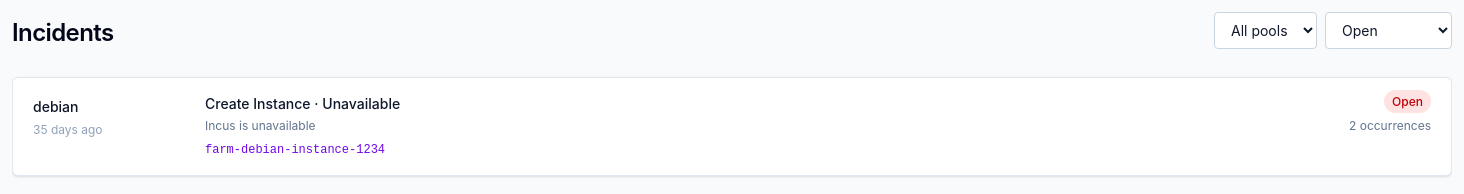
IncidentsView › shows open incidents and lets the user inspect resolved incidents
Select "Resolved" in the dropdown named "Incident status": coordinates (1388, 30) [1325,12,1452,49]
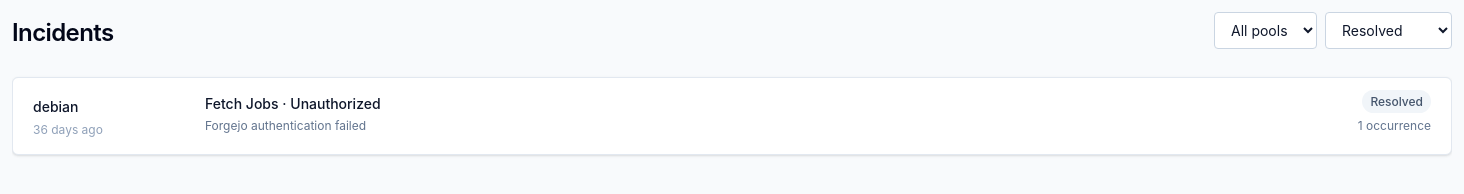
Expected: the text "Forgejo authentication failed" is shown, [205,118,366,133]
Expected: the text "Incus is unavailable" is gone
